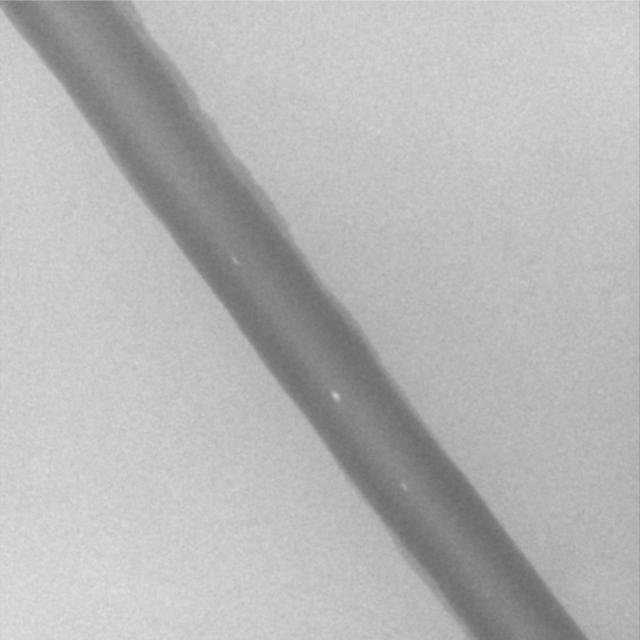air hole: (399, 480, 408, 494), (230, 255, 239, 267), (330, 390, 339, 402)
